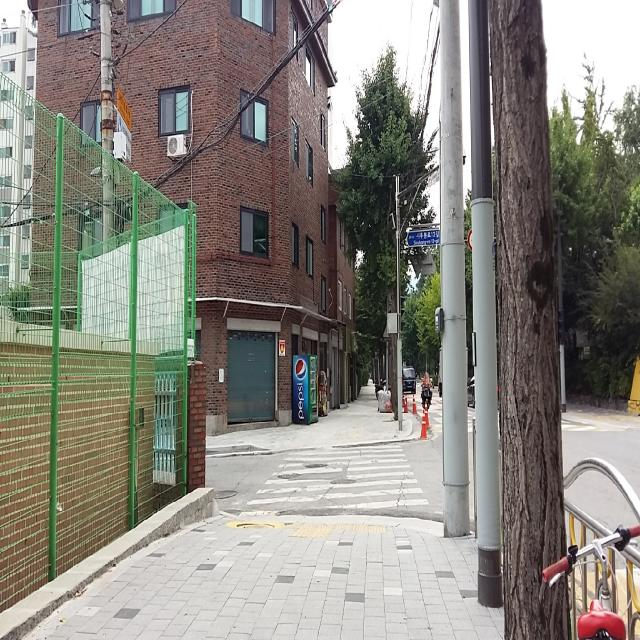횡단보도: (238, 444, 429, 516)
